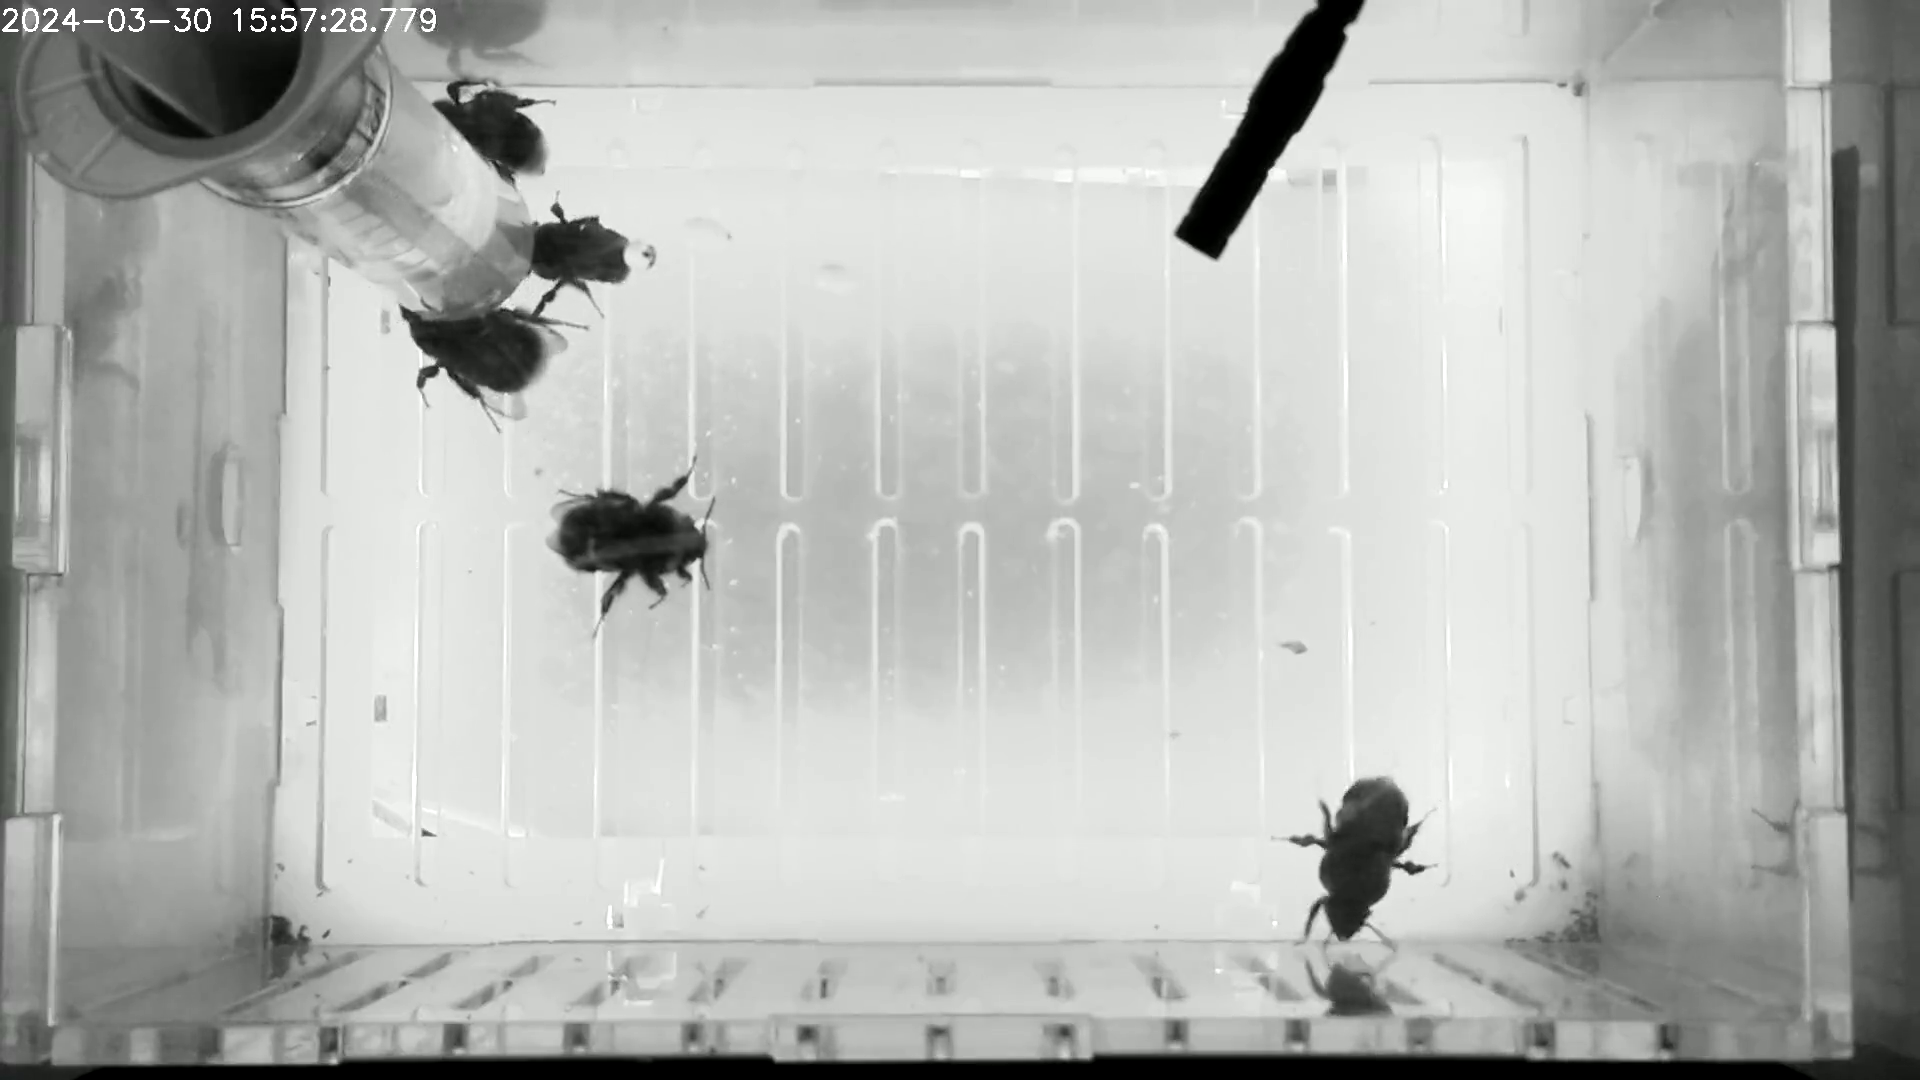bee: (512, 447, 757, 642), (1263, 761, 1444, 961), (378, 287, 595, 438), (409, 65, 562, 202), (491, 202, 651, 319)
feeder: (261, 54, 585, 372)
